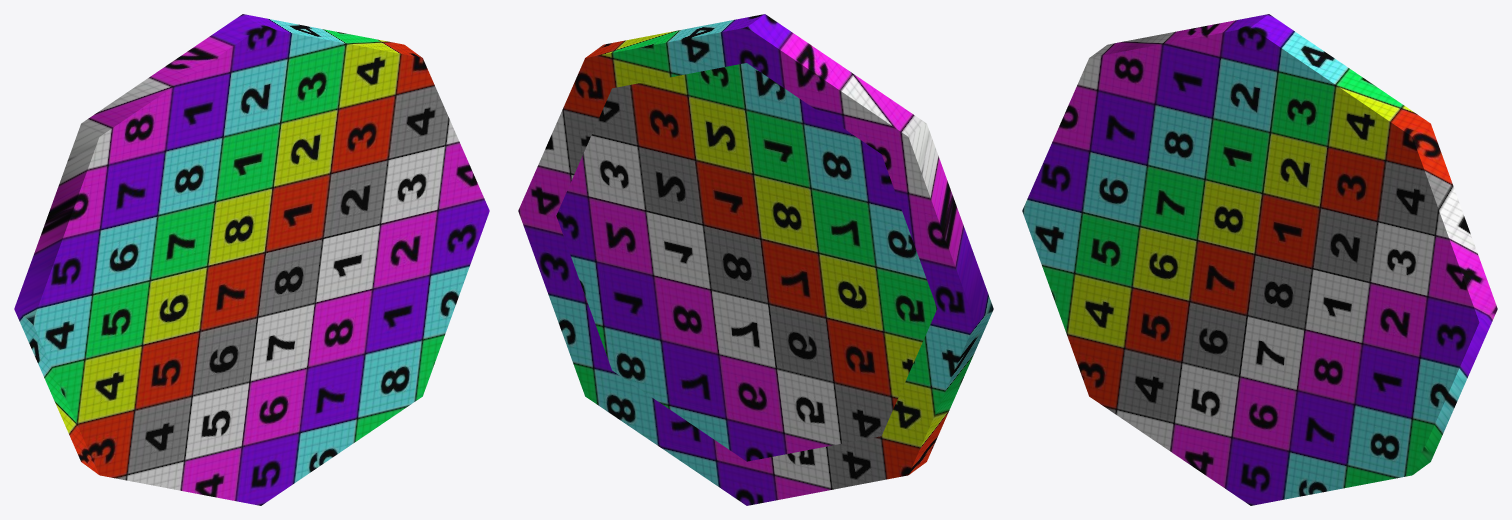
3 views of the same model, side by side, from view 1: azimuth 30°, elevation 25°; view 2: azimuth 150°, elevation 25°; view 3: azimuth 330°, elevation 25° (orthographic).
Parts seen in each view (by area): view 1: pipe; view 2: pipe; view 3: pipe.
Boxes of the visible parts, <box> form: pipe: <box>14,14,489,505</box>; pipe: <box>518,14,993,505</box>; pipe: <box>1022,14,1497,505</box>.
Bounding box in the file's own units: 0.144 × 0.144 × 0.01.
